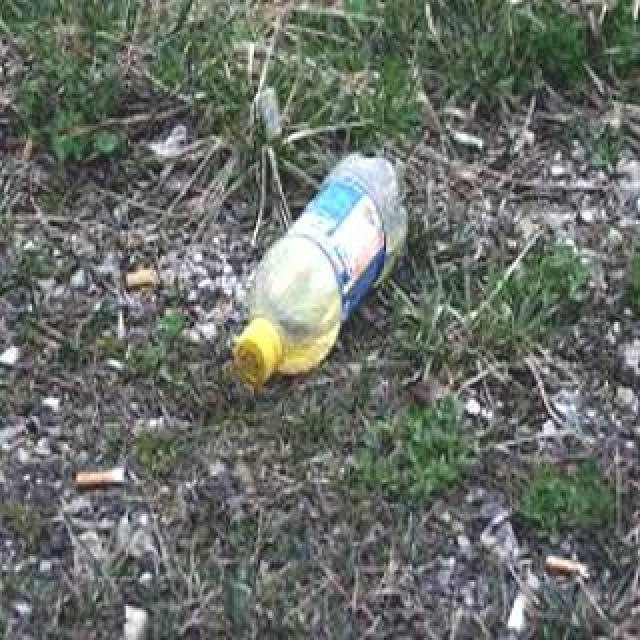Pet_Bottle: (231, 147, 407, 401)
